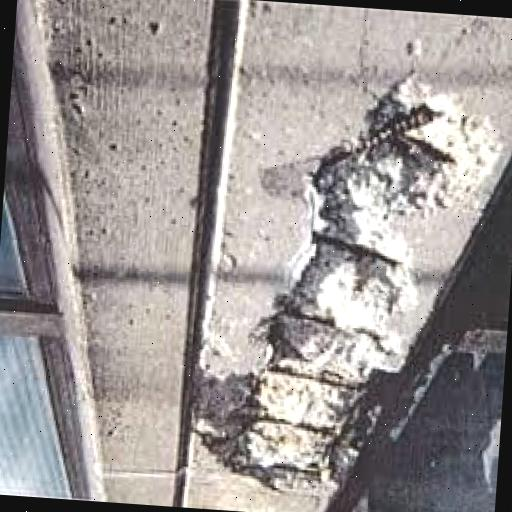spalling: (199, 79, 496, 497), (162, 2, 253, 503)
